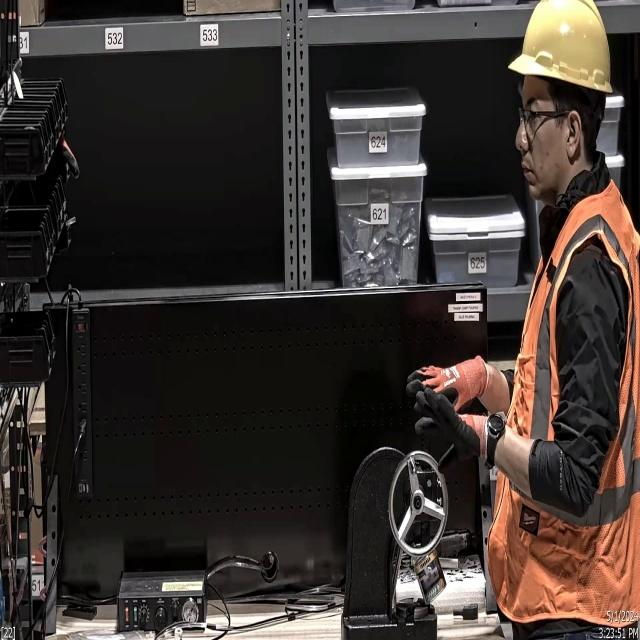gloves: (414, 384, 495, 466), (408, 356, 490, 414)
